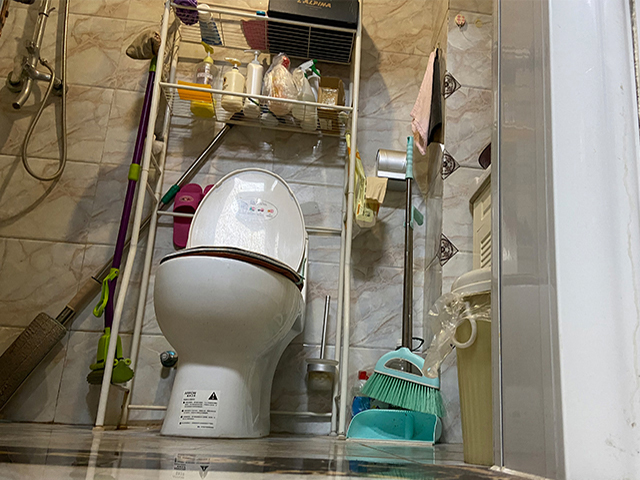closestool: (152, 166, 311, 441)
trashcan: (451, 269, 496, 467)
